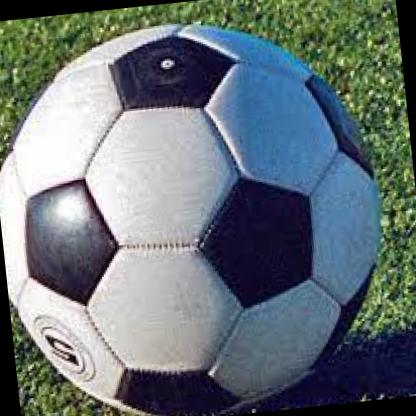ball: (0, 6, 401, 416)
